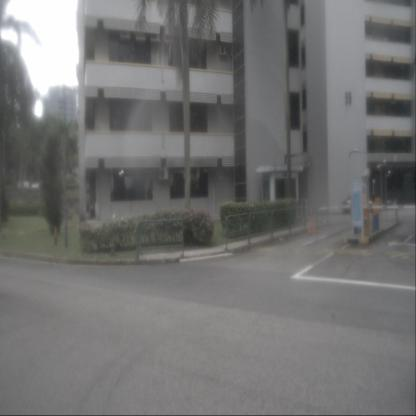cone: (305, 219, 312, 234), (311, 220, 317, 233)
